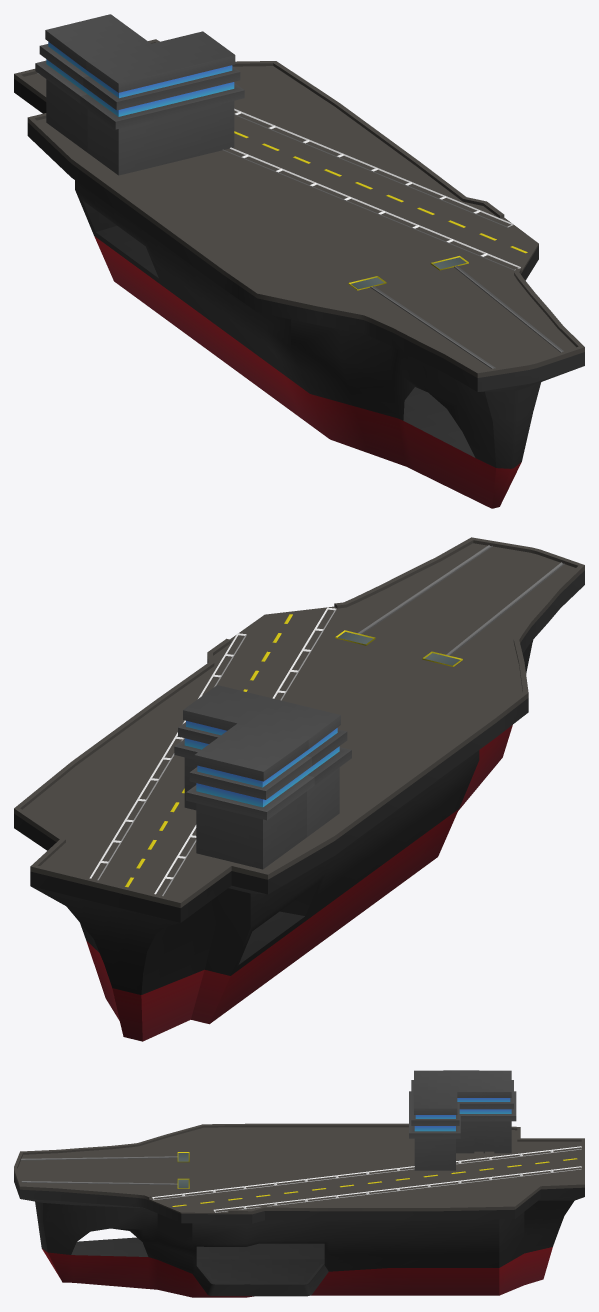
The model's file is poortaviones_01.fbx.
The picture shows the model from 3 angles, top to bottom: view 1: azimuth 30°, elevation 25°; view 2: azimuth 150°, elevation 25°; view 3: azimuth 270°, elevation 25°; orthographic projection. The views are drawn at different scales.
Parts seen in each view (by area): view 1: PortaAviones.002, PortaAviones.003, Plane.008, Cube.047, Cube.046, Cube.031, Plane.016; view 2: PortaAviones.002, PortaAviones.003, Plane.008, Cube.031, Cube.046, Cube.047, Plane.016; view 3: PortaAviones.003, PortaAviones.002, Plane.008, Cube.047, Cube.046, Cube.031, Plane.015.
Boxes of the visible parts, x1,y1,x2,y2 form: PortaAviones.002: (14,39,584,377); PortaAviones.003: (14,79,584,508); Plane.008: (35,14,244,175); Cube.047: (37,73,520,270); Cube.046: (234,108,513,227); Cube.031: (370,265,563,368); Plane.016: (348,256,468,290); PortaAviones.002: (14,537,584,907); PortaAviones.003: (14,570,584,1041); Plane.008: (174,685,351,869); Cube.031: (358,545,564,655); Cube.046: (89,633,246,880); Cube.047: (154,607,336,895); Plane.016: (335,630,462,666); PortaAviones.003: (14,1173,584,1297); PortaAviones.002: (14,1123,584,1214); Plane.008: (409,1070,516,1170); Cube.047: (152,1146,581,1199); Cube.046: (213,1166,581,1212); Cube.031: (21,1156,177,1185); Plane.015: (172,1158,577,1206).
Bounding box in the file's own units: 6861 × 6350 × 18952.
